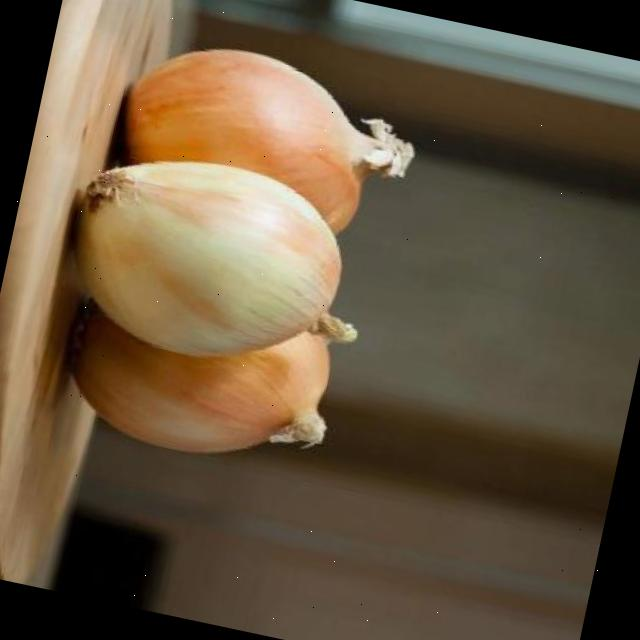Onion: (73, 161, 355, 356), (121, 50, 413, 232), (69, 313, 328, 453)
